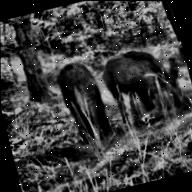boar: (91, 30, 192, 140), (50, 54, 115, 148)
